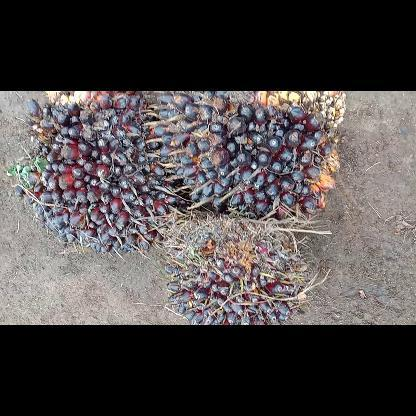TBS mentah: (12, 91, 192, 255), (147, 90, 347, 226), (164, 216, 316, 324)
